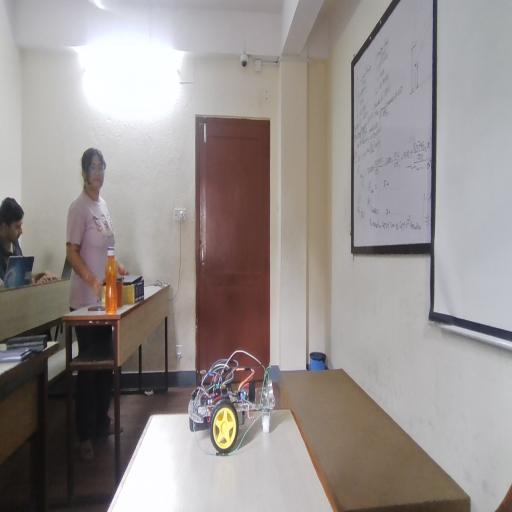Bottle: (103, 248, 123, 314)
car: (186, 361, 293, 453)
